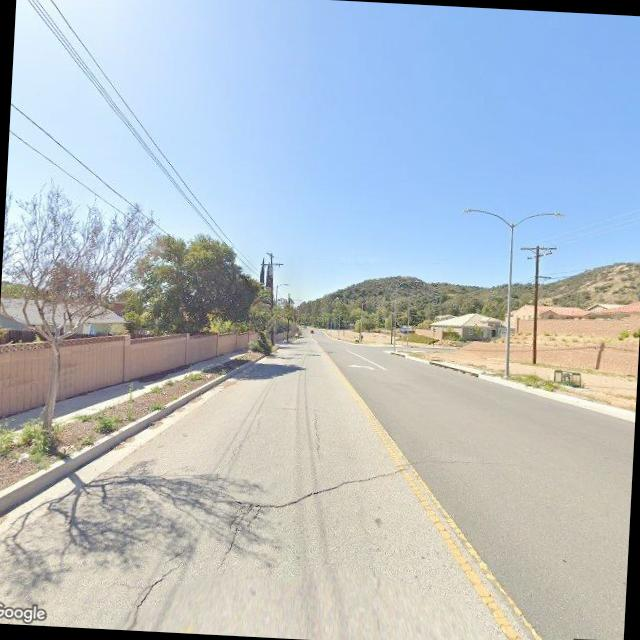crack: (234, 444, 429, 539), (130, 540, 188, 616), (304, 406, 324, 458)
